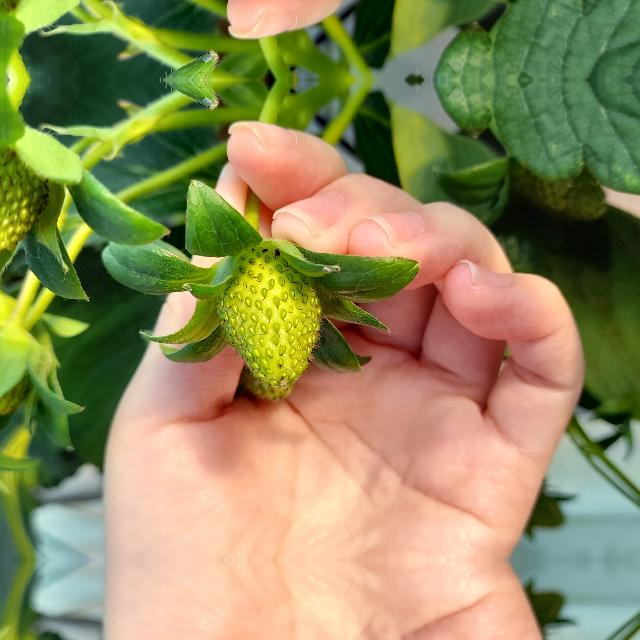Health_25: (215, 245, 321, 387)
